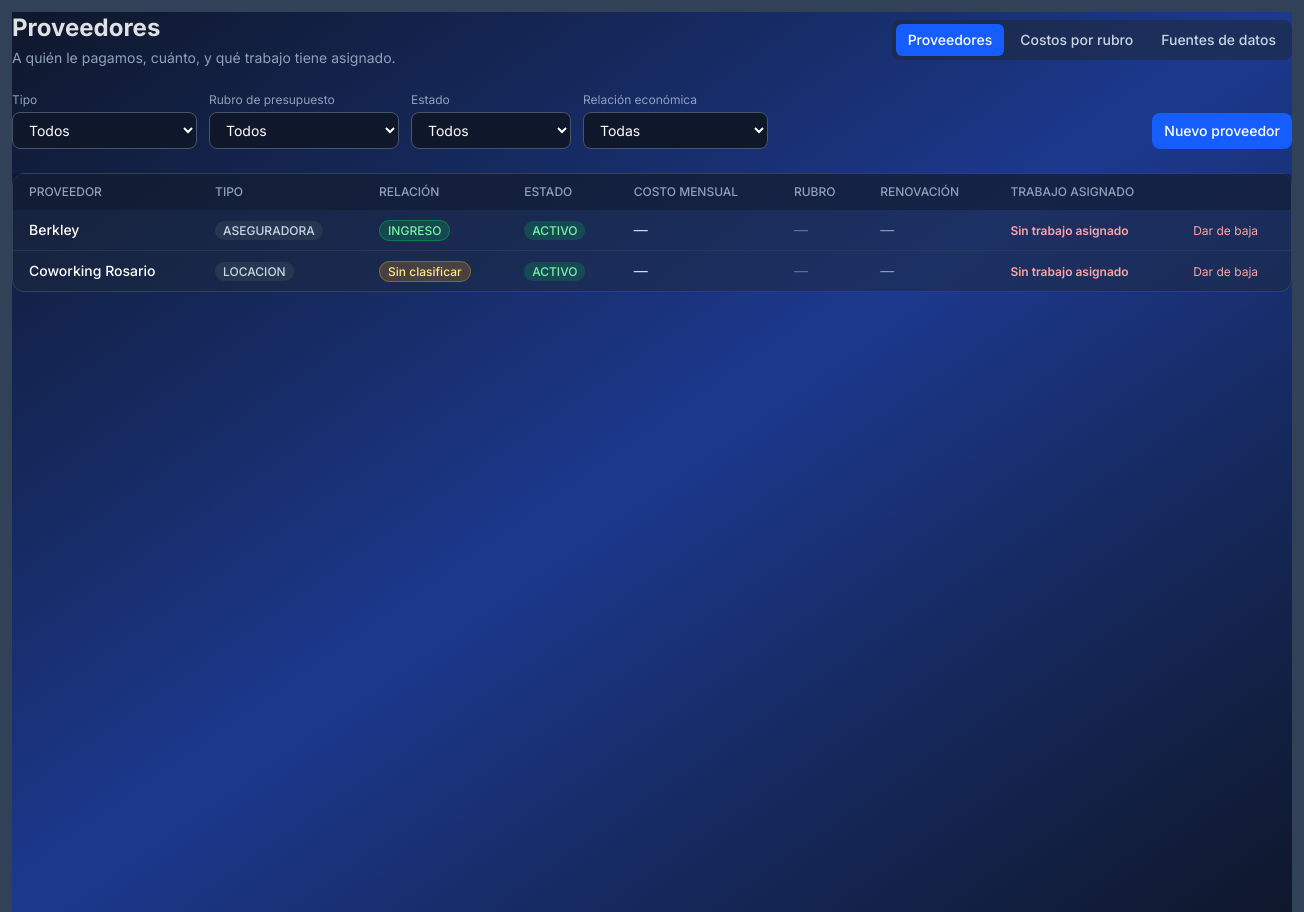
el filtro por relación económica › filtra la tabla y NO se manda como query (el backend no lo acepta)
Expected: the button "Berkley" is shown, x1=29 y1=220 x2=79 y2=240
Select "INGRESO" in the dropdown labelled "Relación económica" at (676,130), box x1=583 y1=112 x2=768 y2=149
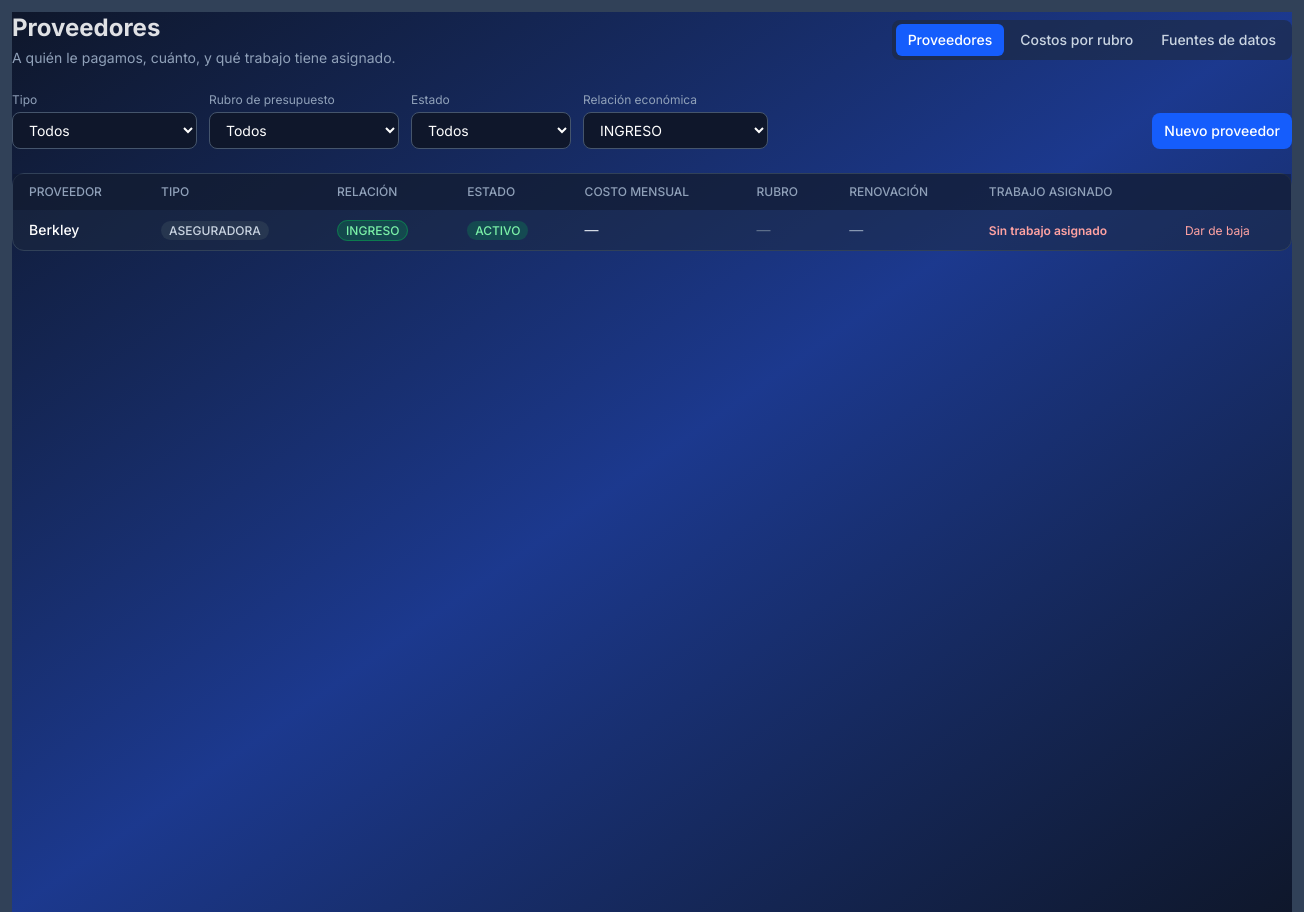
Expected: the button "Berkley" is shown, x1=29 y1=220 x2=79 y2=240
Result: the button "Coworking Rosario" is gone
